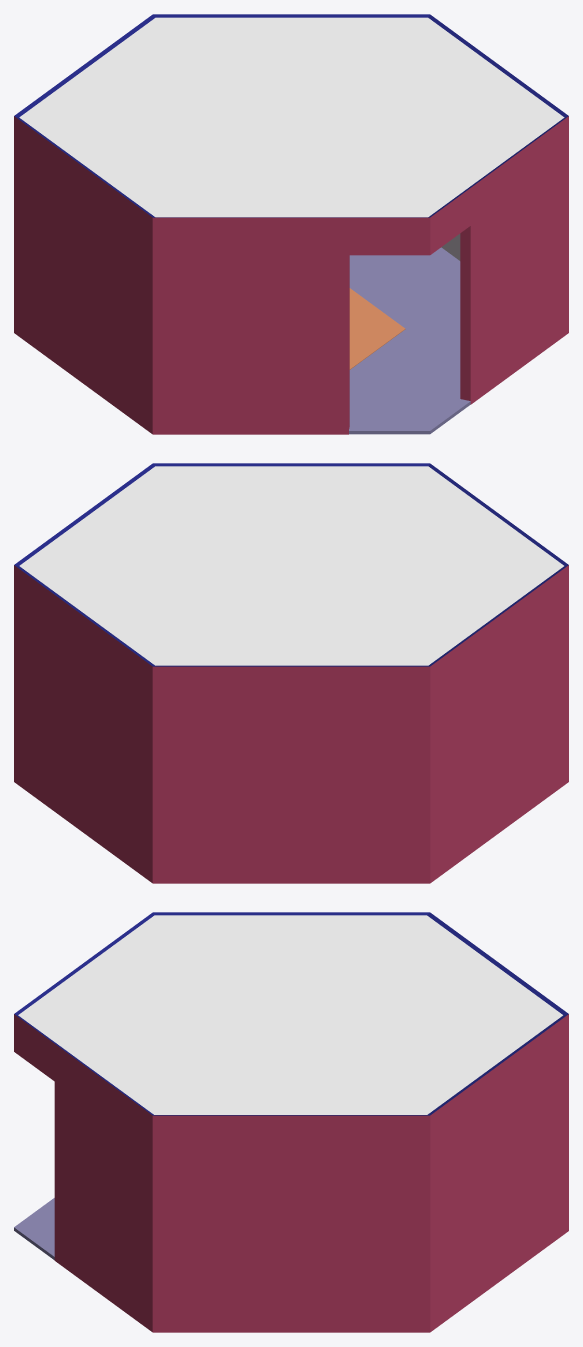
The model's file is salon2.gltf.
3 renders of one model, top to bottom at view 1: azimuth 30°, elevation 25°; view 2: azimuth 150°, elevation 25°; view 3: azimuth 270°, elevation 25°, orthographic.
Visible parts, largest first — view 1: Círculo, techo, piso, Círculo.002; view 2: Círculo, techo; view 3: Círculo, techo, piso.
Part boxes in pixels (left/top/right/bottom): Círculo: left=14, top=14, right=568, bottom=434; techo: left=19, top=17, right=564, bottom=217; piso: left=349, top=247, right=470, bottom=434; Círculo.002: left=349, top=288, right=405, bottom=369; Círculo: left=14, top=463, right=568, bottom=883; techo: left=19, top=466, right=563, bottom=665; Círculo: left=14, top=912, right=568, bottom=1332; techo: left=18, top=915, right=562, bottom=1114; piso: left=14, top=1198, right=54, bottom=1259.
Bounding box in the file's own units: 12.03 × 5.99 × 13.89.
